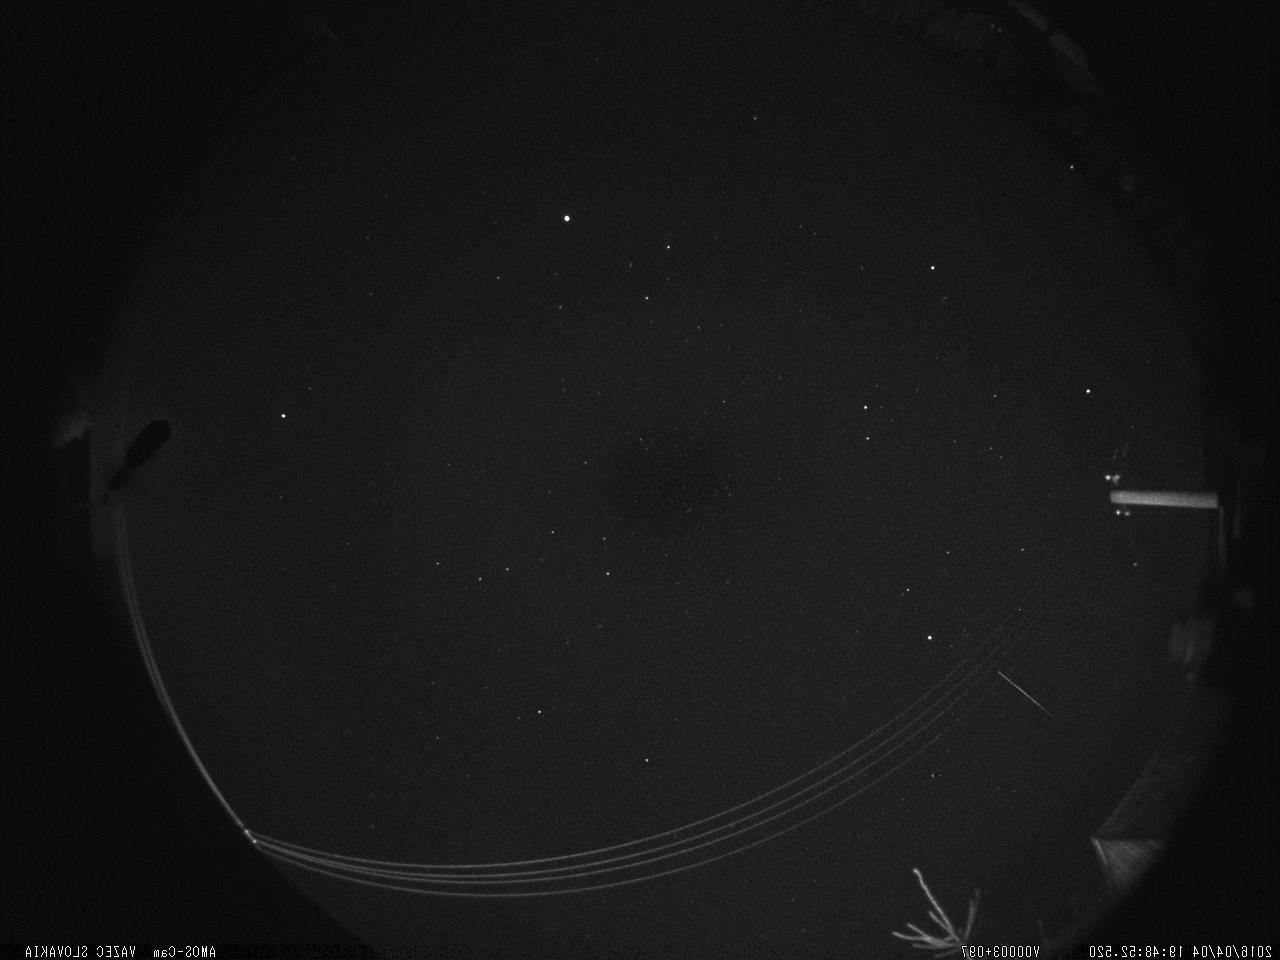meteor: (929, 654, 1078, 729)
